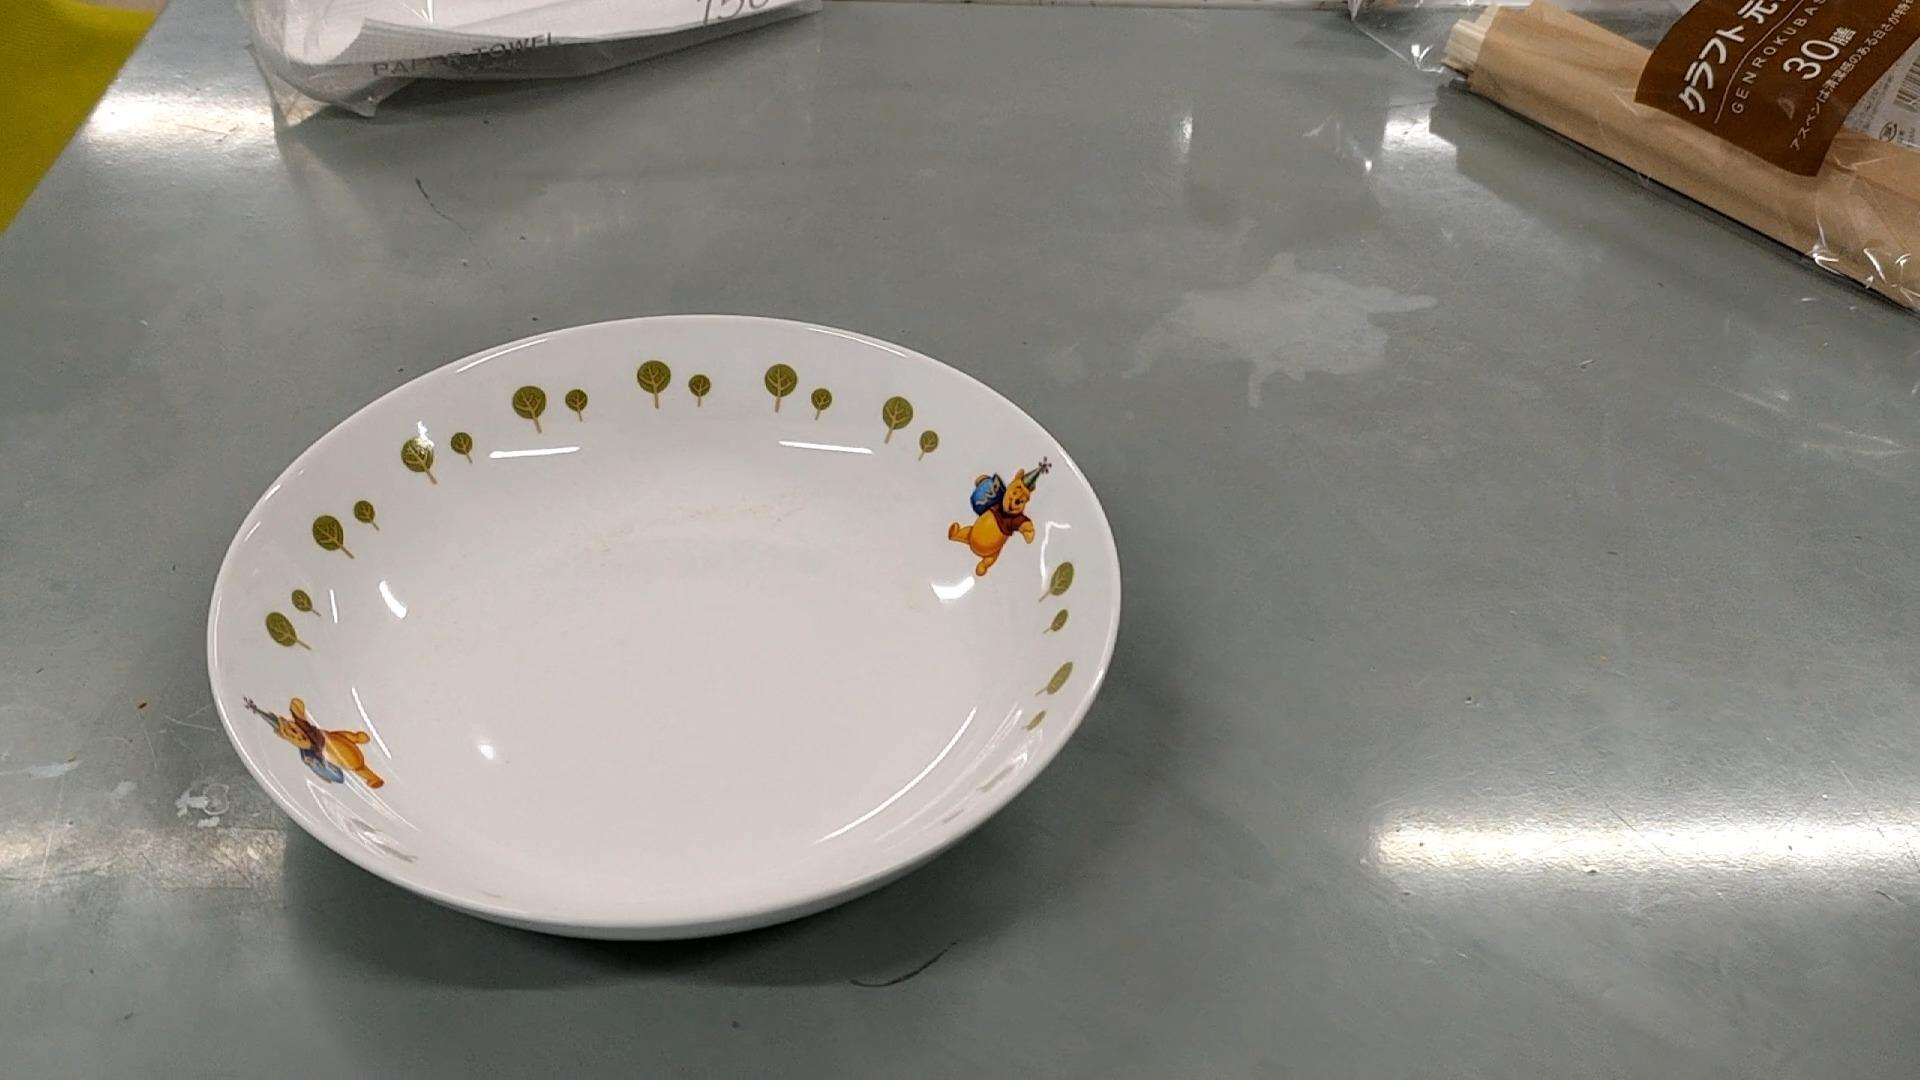plate: (208, 303, 1129, 944)
